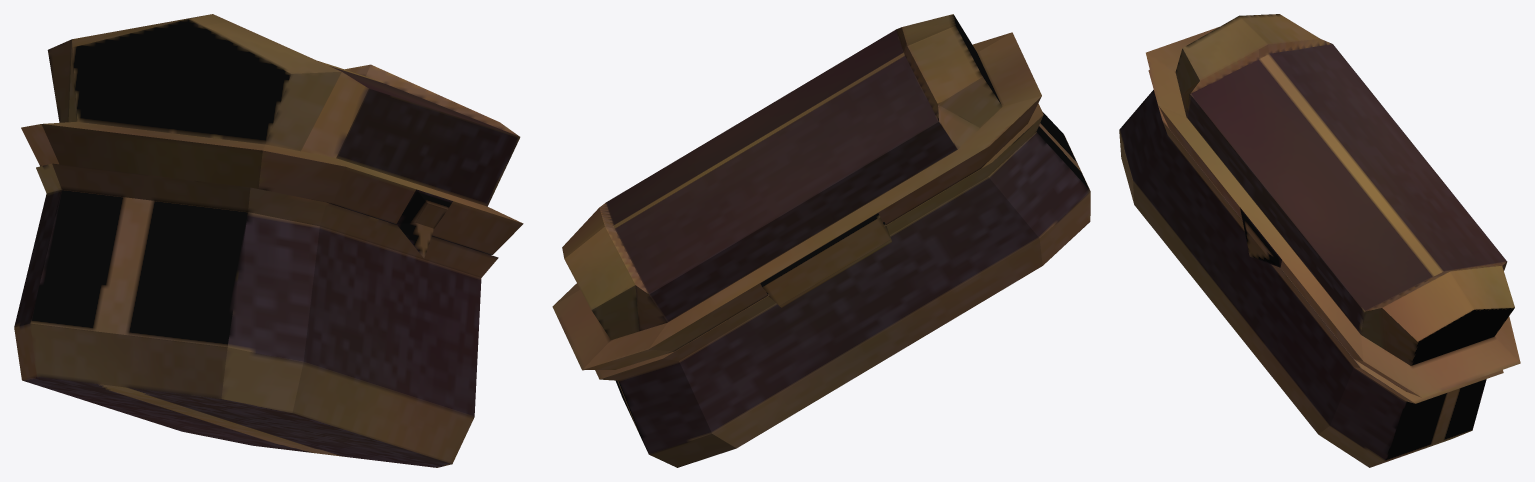
Rendered from 0.fbx_Chest1_001.fbx.
3 views of the same model, side by side, from view 1: azimuth 30°, elevation 25°; view 2: azimuth 150°, elevation 25°; view 3: azimuth 270°, elevation 25° (orthographic). The views are drawn at different scales.
Parts seen in each view (by area): view 1: Chest1.001; view 2: Chest1.001; view 3: Chest1.001.
Boxes of the visible parts, x1=… form: Chest1.001: x1=14, y1=14, x2=523, y2=467; Chest1.001: x1=552, y1=14, x2=1090, y2=467; Chest1.001: x1=1119, y1=14, x2=1520, y2=467.
Bounding box in the file's own units: 457 × 412 × 424.
